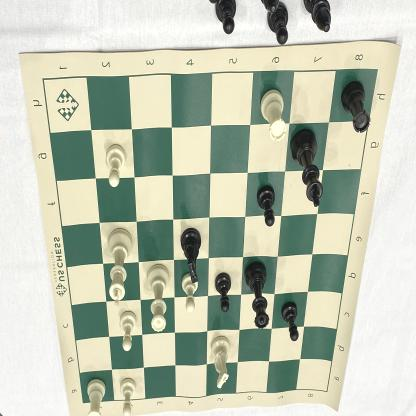black-king: (288, 124, 324, 209)
black-knight: (174, 227, 206, 284)
black-pawn: (278, 298, 300, 347), (255, 180, 276, 228), (212, 268, 233, 314)
black-queen: (242, 256, 270, 333)
black-rook: (338, 75, 370, 137)
white-king: (104, 225, 135, 309)
white-knight: (207, 333, 233, 392)
white-pawn: (177, 269, 201, 318), (103, 143, 127, 190), (116, 309, 138, 355), (116, 375, 137, 416)
white-queen: (146, 262, 169, 336)
white-rook: (259, 86, 288, 146), (84, 377, 108, 416)
